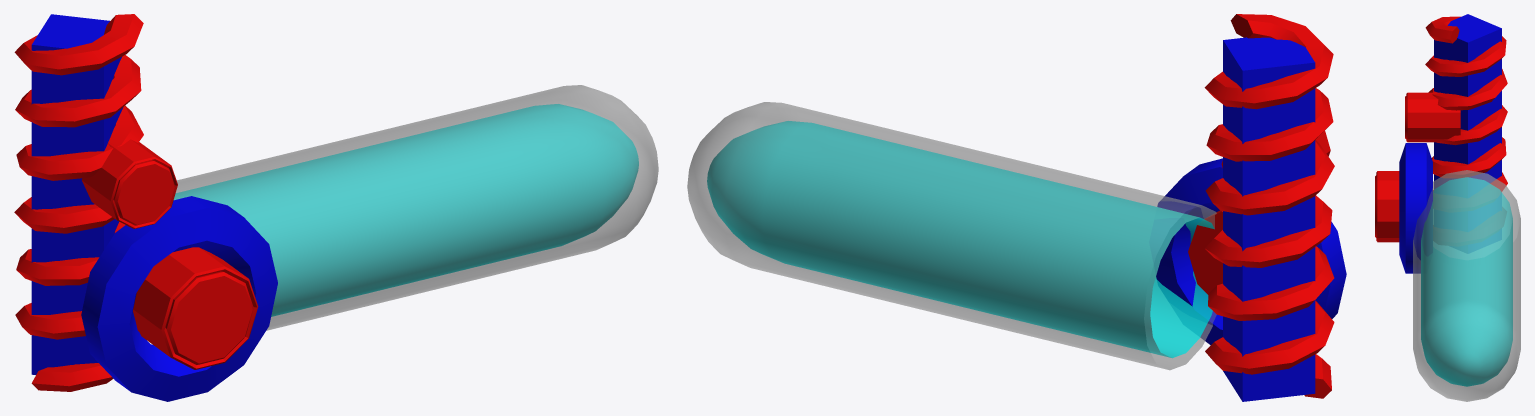
The model's file is gizmov1.fbx.
3 renders of one model, left to right at view 1: azimuth 30°, elevation 25°; view 2: azimuth 150°, elevation 25°; view 3: azimuth 270°, elevation 25°, orthographic. The views are drawn at different scales.
Parts seen in each view (by area): view 1: vial, scroller, helix, helixpole, mainbutton, auxbutton; view 2: vial, helix, helixpole, scroller, mainbutton; view 3: vial, helixpole, helix, scroller, auxbutton, mainbutton.
Boxes of the visible parts, x1,y1,x2,y2 form: vial: (173, 85, 658, 330); scroller: (81, 196, 277, 401); helix: (14, 14, 143, 391); helixpole: (31, 14, 123, 374); mainbutton: (133, 247, 258, 369); auxbutton: (82, 139, 177, 228); vial: (687, 102, 1216, 370); helix: (1204, 14, 1334, 398); helixpole: (1223, 37, 1315, 401); scroller: (1156, 158, 1346, 345); mainbutton: (1188, 210, 1222, 294); vial: (1413, 170, 1520, 401); helixpole: (1434, 14, 1501, 189); helix: (1425, 16, 1507, 191); scroller: (1399, 143, 1432, 273); auxbutton: (1405, 92, 1460, 142); mainbutton: (1375, 171, 1399, 242).
Bounding box in the file's own units: 163 × 89.22 × 51.1.
